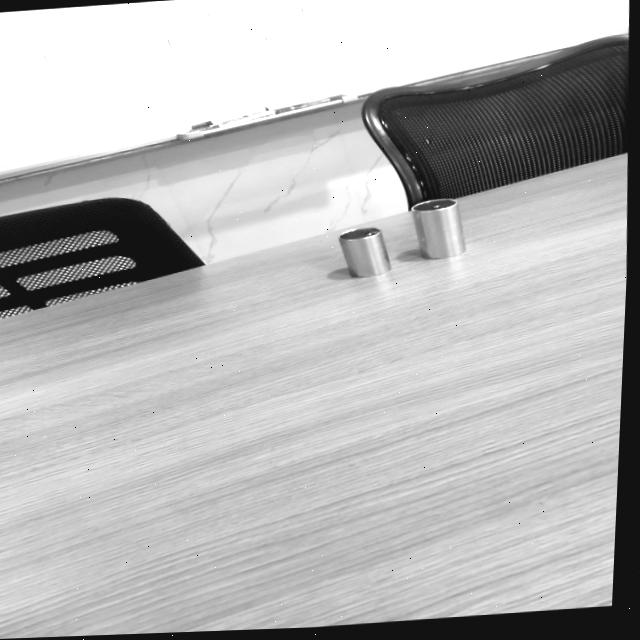Co_Lon: (408, 194, 467, 262)
Co_Nho: (336, 221, 391, 281)
